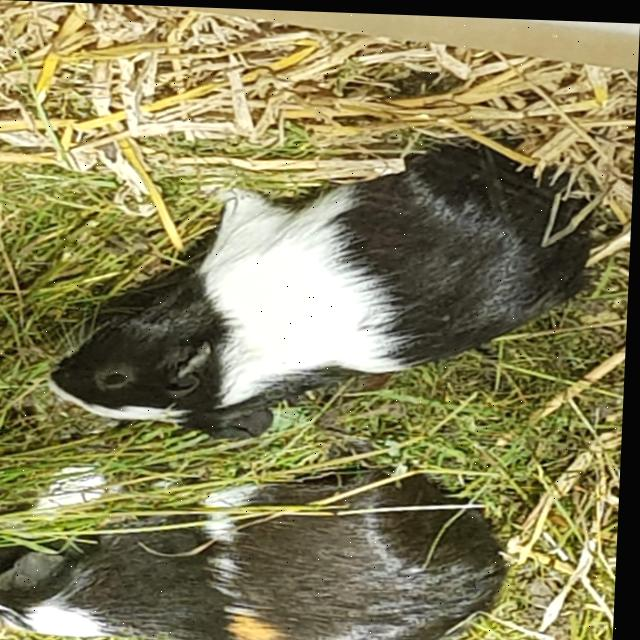guinea pig: (49, 126, 585, 445), (0, 451, 522, 640)
